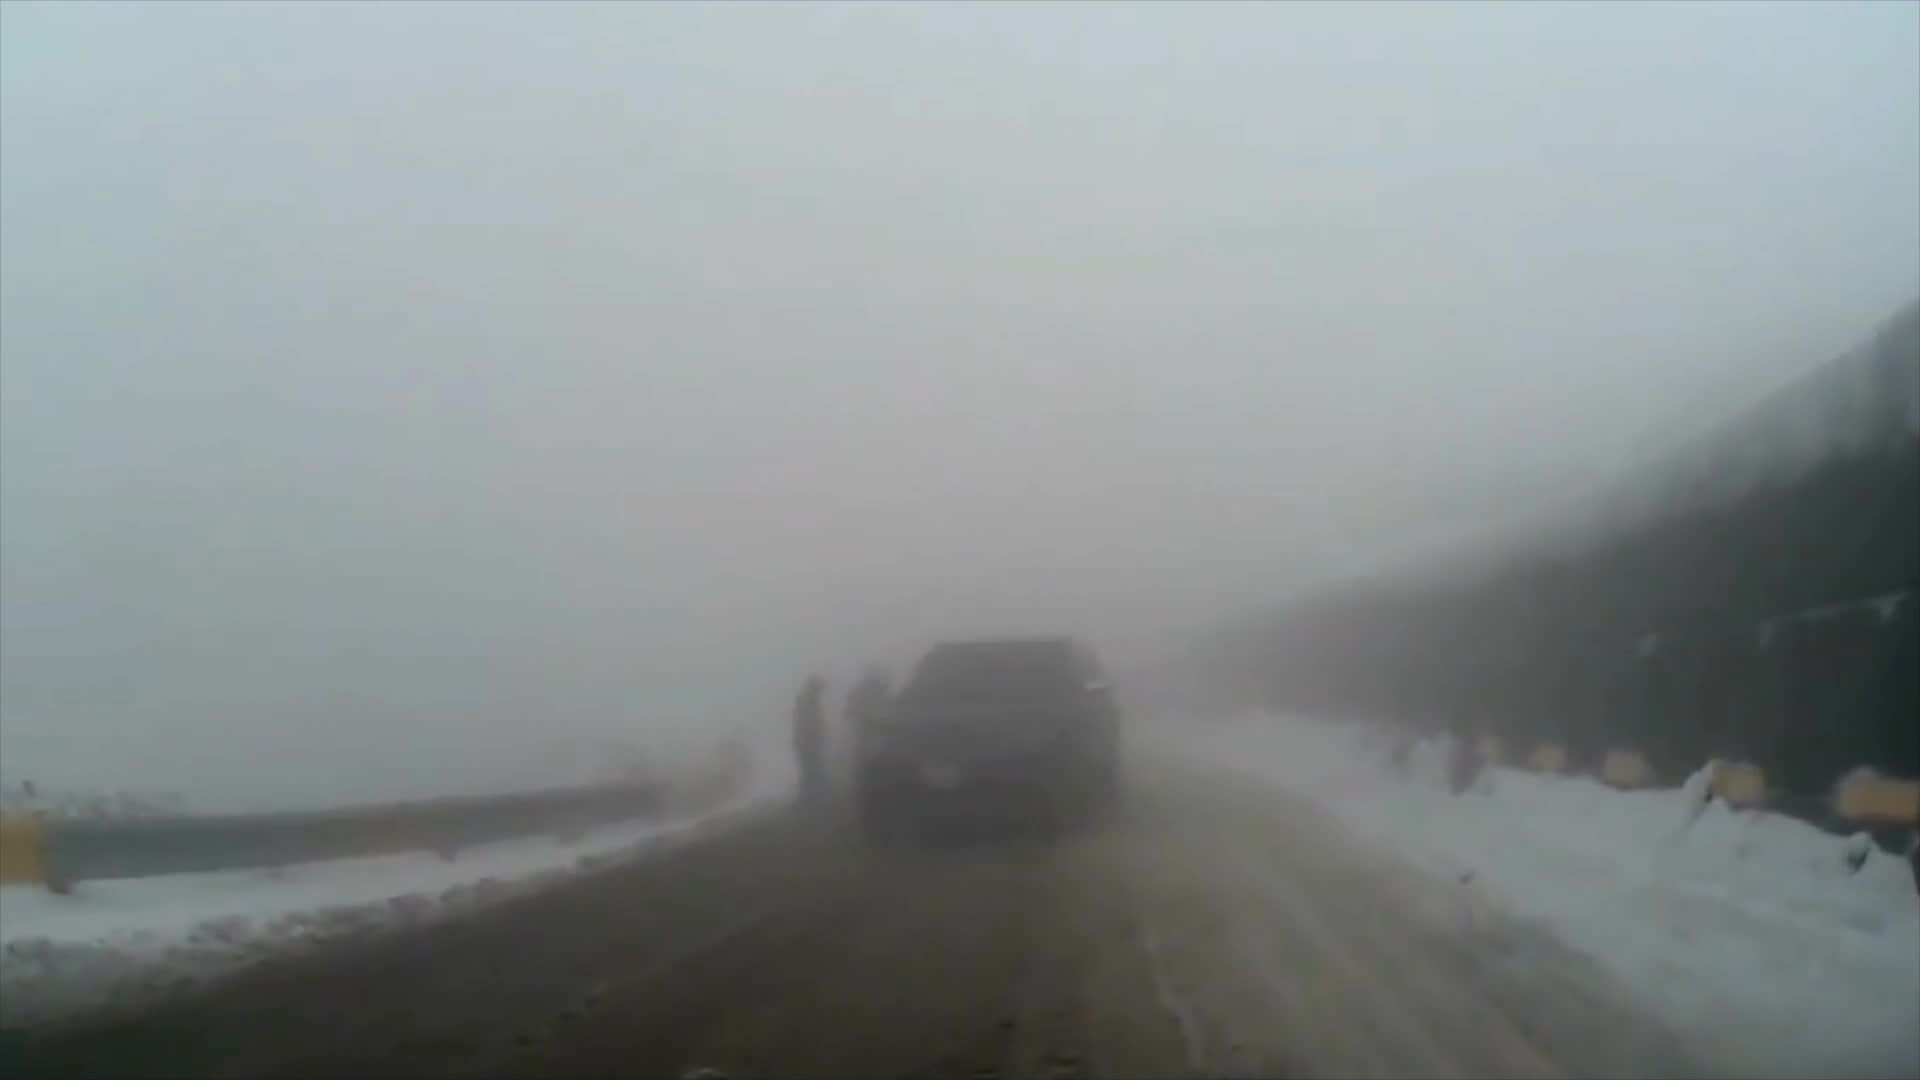pedestrian: (788, 665, 839, 806), (850, 665, 906, 790)
vehicle: (849, 633, 1126, 854)
